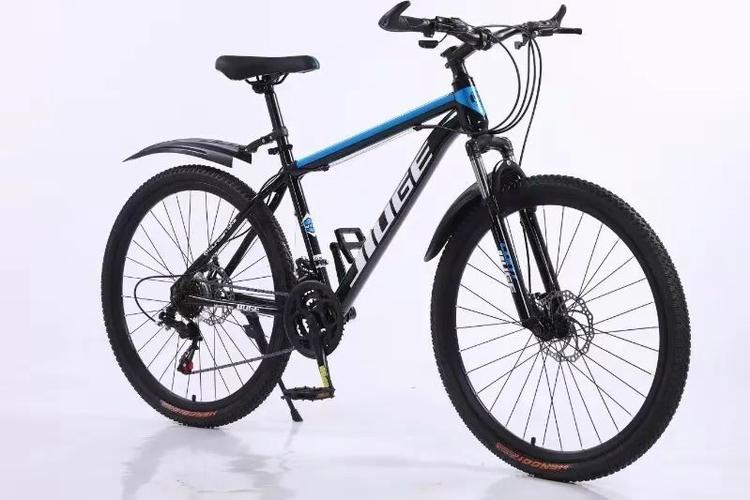单车: (77, 1, 702, 490)
